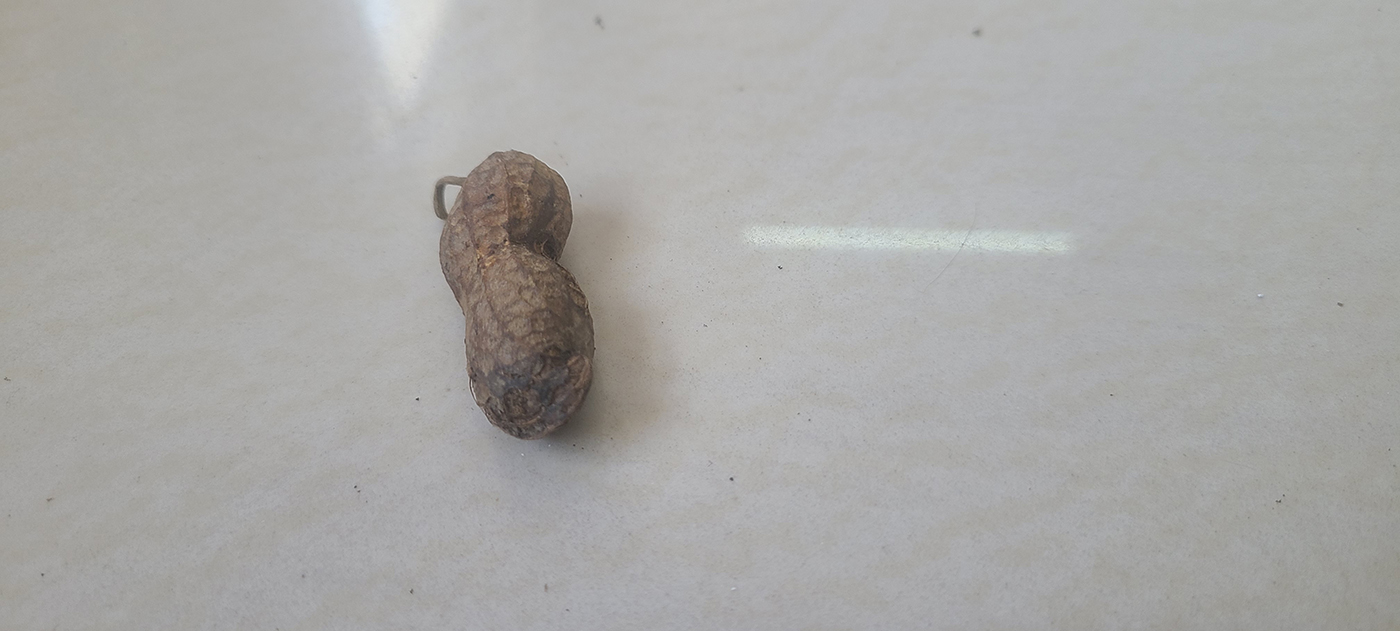l: (434, 149, 596, 439)
